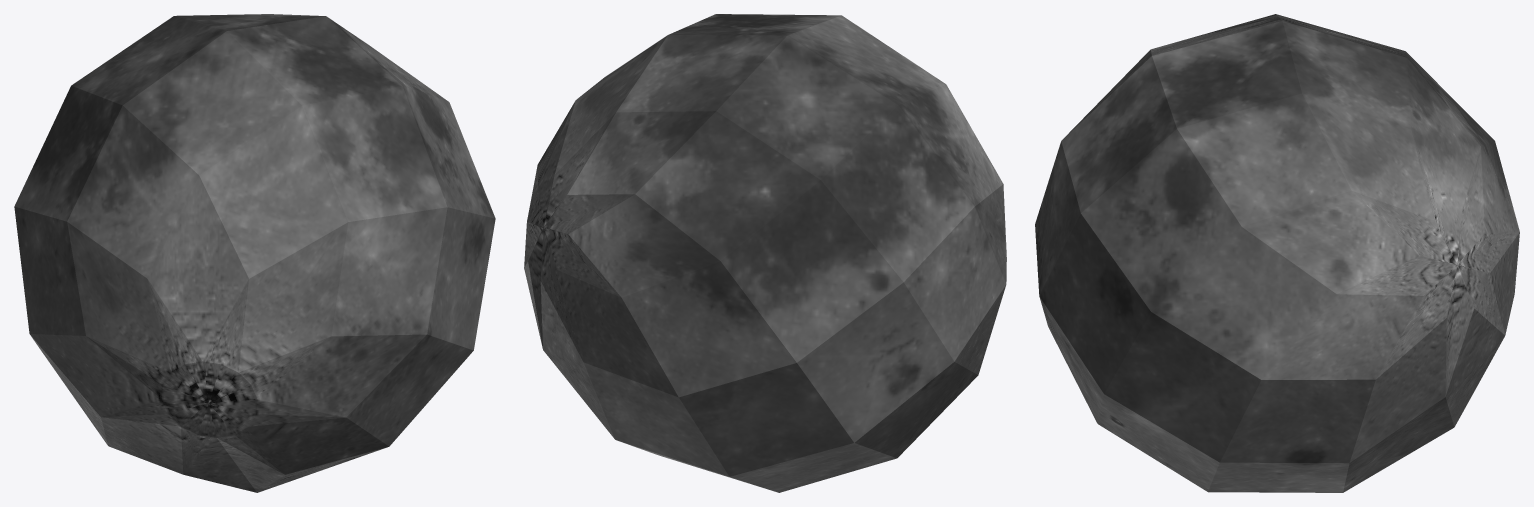
File: planet_twilight.glb
The picture shows the model from 3 angles, left to right: view 1: azimuth 30°, elevation 25°; view 2: azimuth 150°, elevation 25°; view 3: azimuth 270°, elevation 25°; orthographic projection.
Parts seen in each view (by area): view 1: Twilight- Fictional Planet.001; view 2: Twilight- Fictional Planet.001; view 3: Twilight- Fictional Planet.001.
Part boxes in pixels (bbox=[...]): Twilight- Fictional Planet.001: bbox=[14, 14, 495, 492]; Twilight- Fictional Planet.001: bbox=[524, 14, 1006, 492]; Twilight- Fictional Planet.001: bbox=[1035, 14, 1519, 492].
Bounding box in the file's own units: 2 × 1.99 × 2.
1 material, 1 textured.
